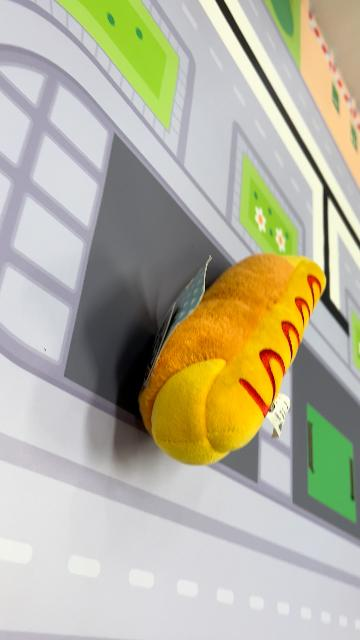hotdog: (138, 252, 329, 468)
